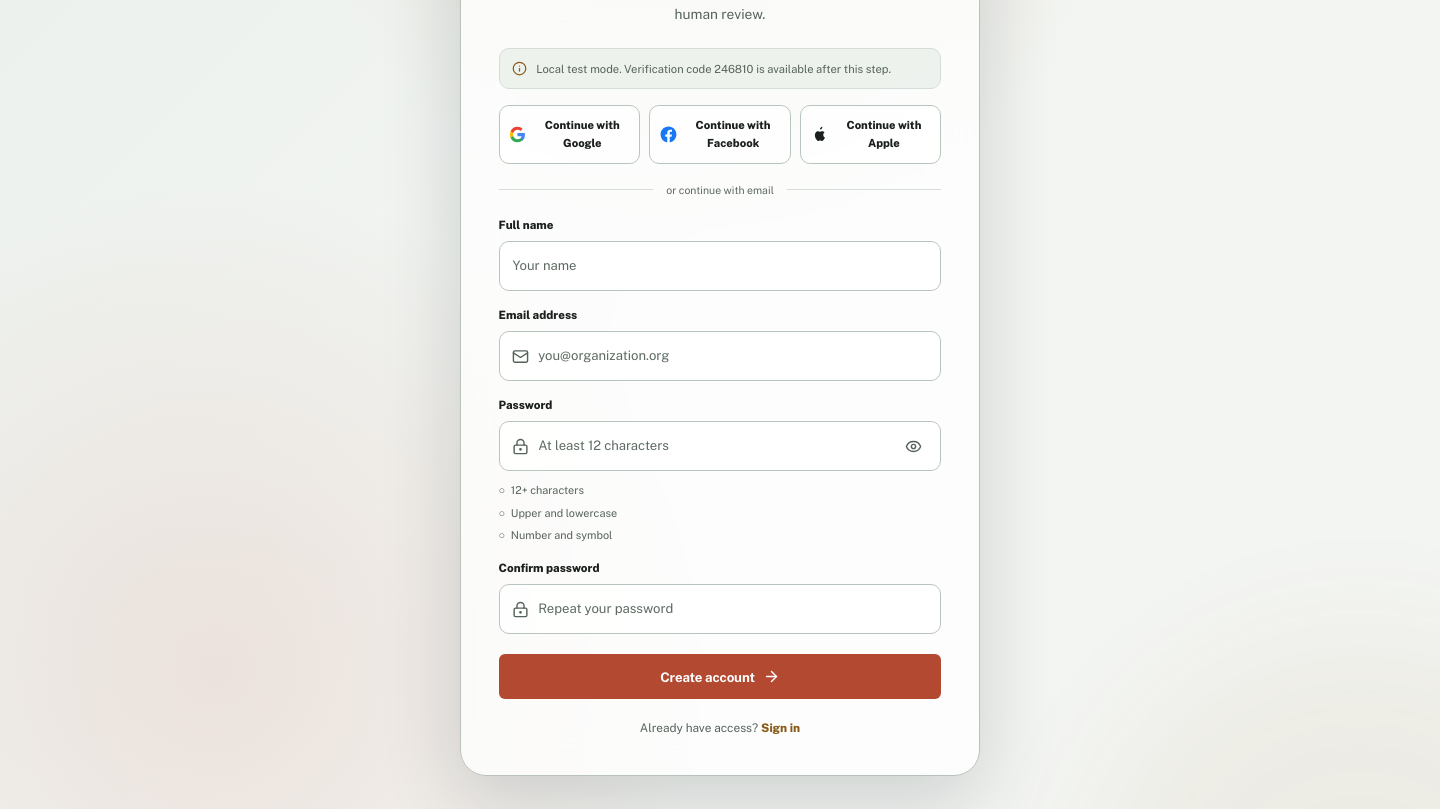
Test: SignUpExperience › checks password requirements and confirmation as the user types
(page scrolled)
In the password field labelled "Password": [714, 446] box [538,436,891,456], type "short"
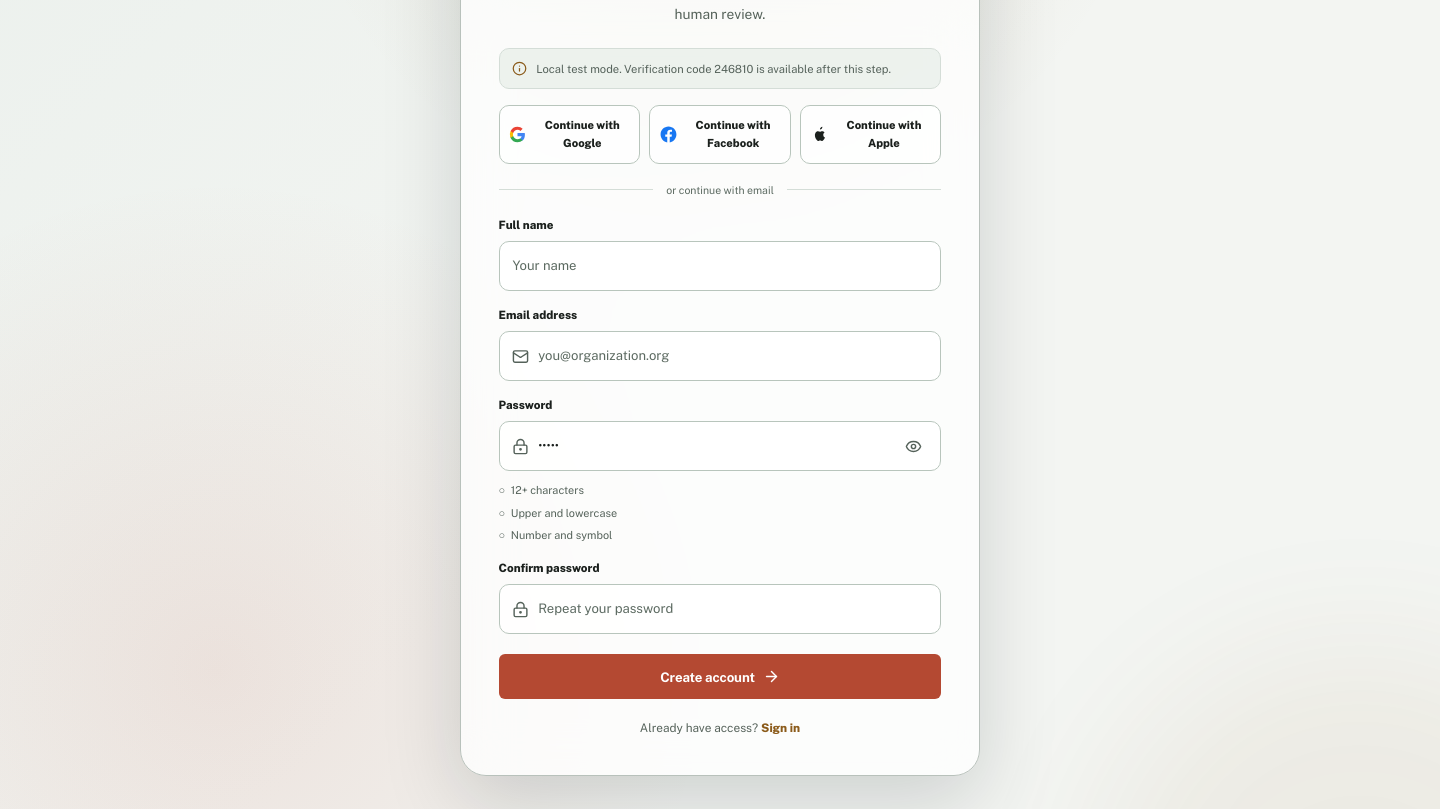
In the password field labelled "Password": [714, 446] box [538,436,891,456], type "StrongPassword!23"
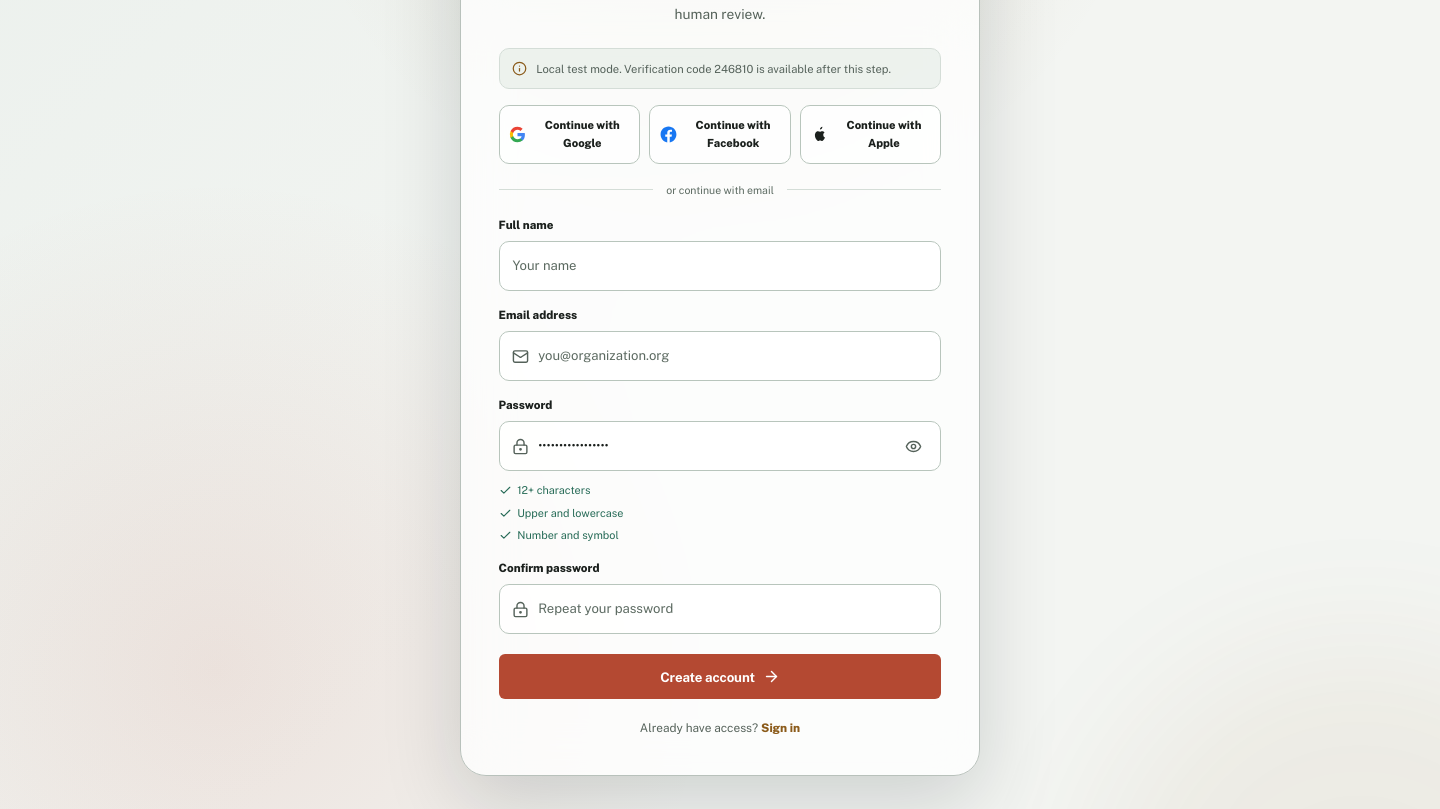
In the password field labelled "Confirm password": [733, 609] box [538,599,928,620], type "different"
(page scrolled)
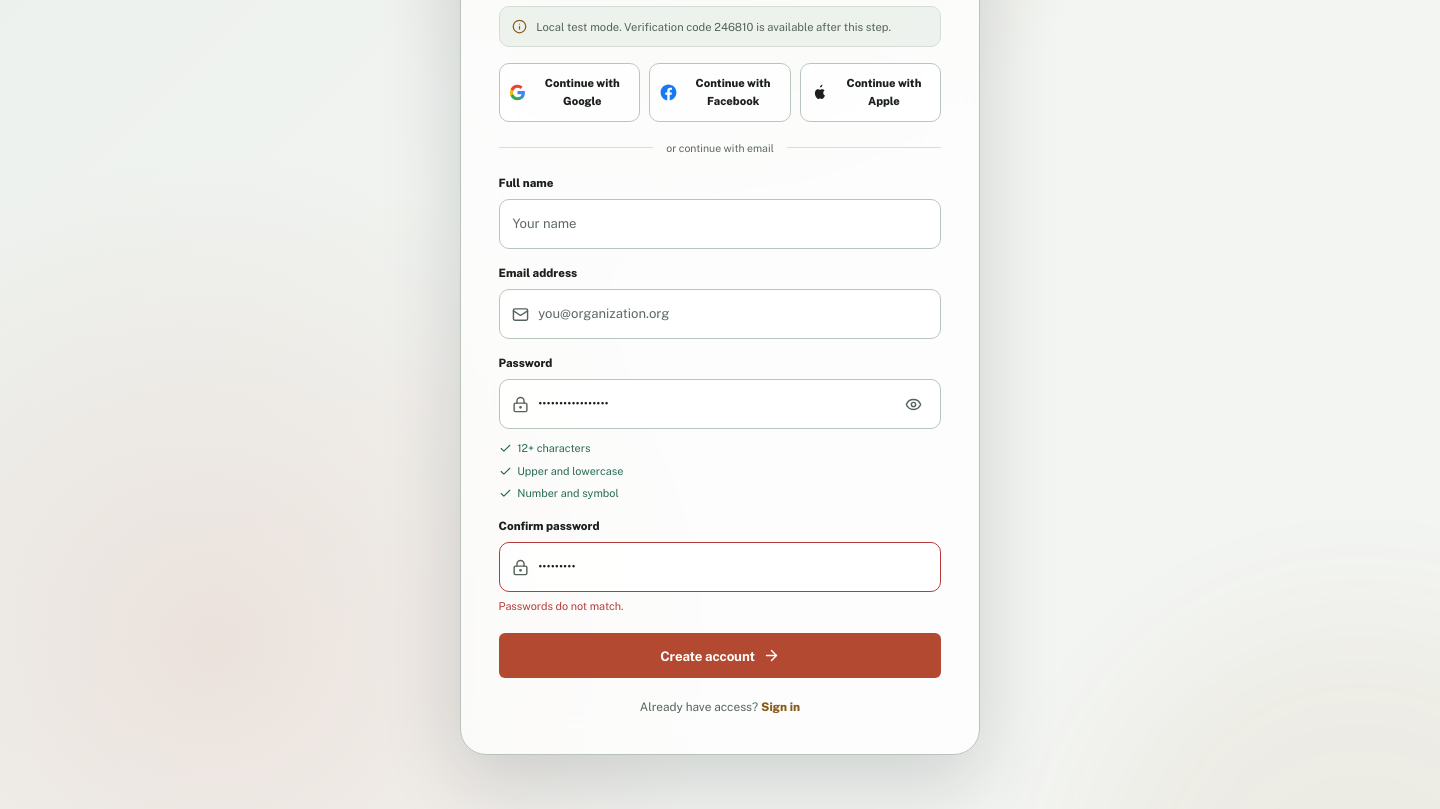
Now the text "Passwords do not match." is shown, box [499,600,624,612]
